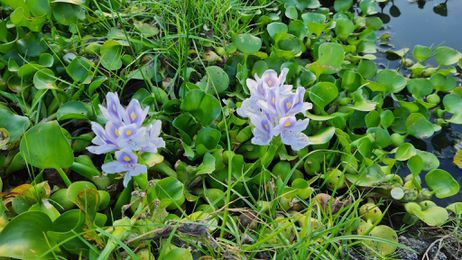water_hyacinth: (2, 9, 461, 245)
